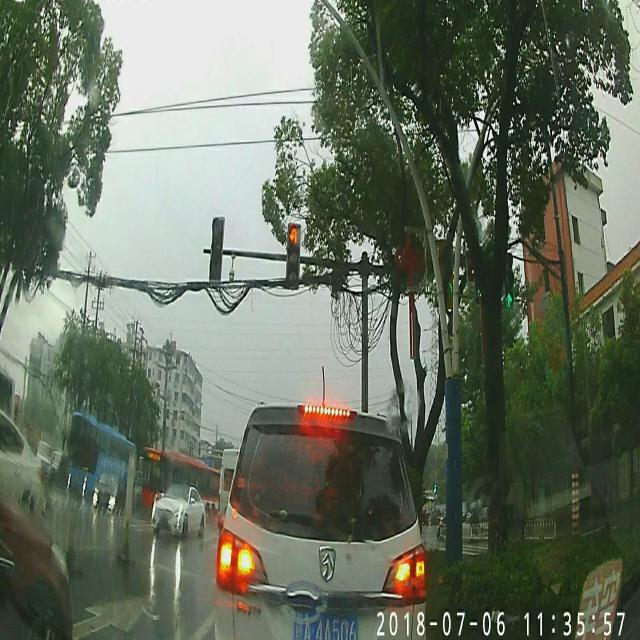car: (215, 406, 433, 640)
